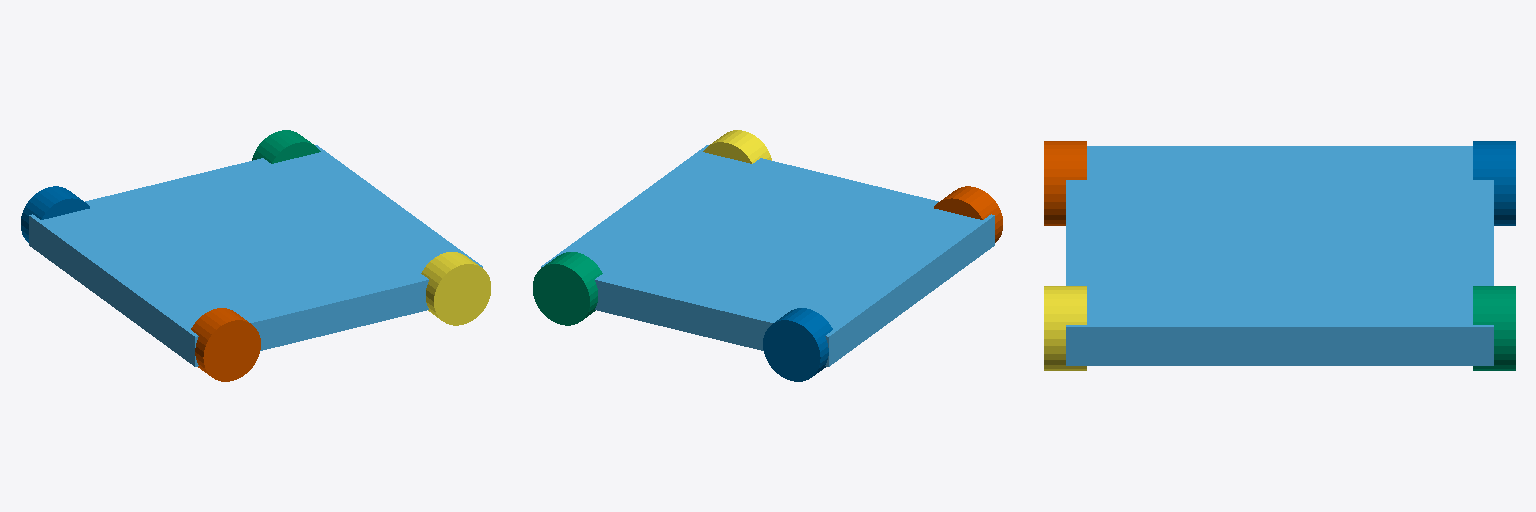
URDF robot description (basic_robot):
<?xml version="1.0" ?>
<!-- =================================================================================== -->
<!-- |    This document was autogenerated by xacro from myrobot.xacro                  | -->
<!-- |    EDITING THIS FILE BY HAND IS NOT RECOMMENDED                                 | -->
<!-- =================================================================================== -->
<robot name="basic_robot">
  <param command="xacro '[local-path]/nasa_ws/src/new_robot_urdf/urdf/myrobot.urdf.xacro'" name="robot_description"/>
  <!--colors-->
  <material name="blue">
    <color rgba=" 0 0 0.8 1"/>
  </material>
  <!--All Xacro Macros-->
  <!-- Dummy link to get rid of  base_link has an inertia specified in the URDF error -->
  <link name="dummy"/>
  <!-- Dummy joint to get rid of  base_link has an inertia specified in the URDF error -->
  <joint name="dummy_joint" type="fixed">
    <parent link="dummy"/>
    <child link="base_link"/>
  </joint>
  <link name="base_link">
    <visual>
      <origin xyz="0 0 0.1"/>
      <geometry>
        <box size="1.0 1.0 0.1"/>
      </geometry>
    </visual>
    <collision>
      <origin xyz="0 0 0.1"/>
      <geometry>
        <box size="1.0 1.0 0.1"/>
      </geometry>
    </collision>
    <inertial>
      <mass value="10"/>
      <inertia ixx="1.0" ixy="0.0" ixz="0.0" iyy="1.0" iyz="0.0" izz="1.0"/>
    </inertial>
  </link>
  <link name="right_0_wheel">
    <visual>
      <origin rpy="1.5707963267948966 0 0" xyz="0 0 0"/>
      <geometry>
        <cylinder length="0.1" radius="0.1"/>
      </geometry>
      <material name="black"/>
    </visual>
    <collision>
      <origin rpy="1.5707963267948966 0 0" xyz="0 0 0"/>
      <geometry>
        <cylinder length="0.1" radius="0.1"/>
      </geometry>
    </collision>
    <inertial>
      <mass value="1"/>
      <inertia ixx="1.0" ixy="0.0" ixz="0.0" iyy="1.0" iyz="0.0" izz="1.0"/>
    </inertial>
  </link>
  <!-- create xacro macro fo wheel joint -->
  <joint name="right_0_wheel_joint" type="continuous">
    <axis rpy="0 0 0" xyz="0 1 0"/>
    <parent link="base_link"/>
    <child link="right_0_wheel"/>
    <origin rpy="0 0 0" xyz="0.4 0.5 0.1"/>
  </joint>
  <link name="left_1_wheel">
    <visual>
      <origin rpy="1.5707963267948966 0 0" xyz="0 0 0"/>
      <geometry>
        <cylinder length="0.1" radius="0.1"/>
      </geometry>
      <material name="black"/>
    </visual>
    <collision>
      <origin rpy="1.5707963267948966 0 0" xyz="0 0 0"/>
      <geometry>
        <cylinder length="0.1" radius="0.1"/>
      </geometry>
    </collision>
    <inertial>
      <mass value="1"/>
      <inertia ixx="1.0" ixy="0.0" ixz="0.0" iyy="1.0" iyz="0.0" izz="1.0"/>
    </inertial>
  </link>
  <!-- create xacro macro fo wheel joint -->
  <joint name="left_1_wheel_joint" type="continuous">
    <axis rpy="0 0 0" xyz="0 1 0"/>
    <parent link="base_link"/>
    <child link="left_1_wheel"/>
    <origin rpy="0 0 0" xyz="0.4 -0.5 0.1"/>
  </joint>
  <link name="right_2_wheel">
    <visual>
      <origin rpy="1.5707963267948966 0 0" xyz="0 0 0"/>
      <geometry>
        <cylinder length="0.1" radius="0.1"/>
      </geometry>
      <material name="black"/>
    </visual>
    <collision>
      <origin rpy="1.5707963267948966 0 0" xyz="0 0 0"/>
      <geometry>
        <cylinder length="0.1" radius="0.1"/>
      </geometry>
    </collision>
    <inertial>
      <mass value="1"/>
      <inertia ixx="1.0" ixy="0.0" ixz="0.0" iyy="1.0" iyz="0.0" izz="1.0"/>
    </inertial>
  </link>
  <!-- create xacro macro fo wheel joint -->
  <joint name="right_2_wheel_joint" type="continuous">
    <axis rpy="0 0 0" xyz="0 1 0"/>
    <parent link="base_link"/>
    <child link="right_2_wheel"/>
    <origin rpy="0 0 0" xyz="-0.4 0.5 0.1"/>
  </joint>
  <link name="left_3_wheel">
    <visual>
      <origin rpy="1.5707963267948966 0 0" xyz="0 0 0"/>
      <geometry>
        <cylinder length="0.1" radius="0.1"/>
      </geometry>
      <material name="black"/>
    </visual>
    <collision>
      <origin rpy="1.5707963267948966 0 0" xyz="0 0 0"/>
      <geometry>
        <cylinder length="0.1" radius="0.1"/>
      </geometry>
    </collision>
    <inertial>
      <mass value="1"/>
      <inertia ixx="1.0" ixy="0.0" ixz="0.0" iyy="1.0" iyz="0.0" izz="1.0"/>
    </inertial>
  </link>
  <!-- create xacro macro fo wheel joint -->
  <joint name="left_3_wheel_joint" type="continuous">
    <axis rpy="0 0 0" xyz="0 1 0"/>
    <parent link="base_link"/>
    <child link="left_3_wheel"/>
    <origin rpy="0 0 0" xyz="-0.4 -0.5 0.1"/>
  </joint>
  <!-- Gazebo plugin for ROS Control -->
  <gazebo>
    <plugin filename="libgazebo_ros_control.so" name="gazebo_ros_control">
      <robotNamespace>/</robotNamespace>
    </plugin>
  </gazebo>
</robot>

--- What the picture shows (computed from the rendered views, not written in the file) ---
3 views of the same robot in one strip: view 1: azimuth 30°, elevation 25°; view 2: azimuth 150°, elevation 25°; view 3: azimuth 270°, elevation 25° (orthographic).
Model basic_robot with 6 links and 5 joints (4 continuous, 1 fixed), rooted at dummy, posed every joint at zero.
Visible links, largest first — view 1: base_link, left_3_wheel, left_1_wheel, right_2_wheel, right_0_wheel; view 2: base_link, right_2_wheel, right_0_wheel, left_3_wheel, left_1_wheel; view 3: base_link, right_0_wheel, left_1_wheel, right_2_wheel, left_3_wheel.
Boxes of the visible links, bbox=[...] form: base_link: bbox=[29, 145, 482, 366]; left_3_wheel: bbox=[191, 308, 260, 381]; left_1_wheel: bbox=[421, 252, 490, 325]; right_2_wheel: bbox=[21, 186, 89, 242]; right_0_wheel: bbox=[252, 130, 320, 163]; base_link: bbox=[541, 145, 994, 366]; right_2_wheel: bbox=[763, 308, 832, 381]; right_0_wheel: bbox=[533, 252, 602, 325]; left_3_wheel: bbox=[934, 186, 1002, 242]; left_1_wheel: bbox=[703, 130, 771, 163]; base_link: bbox=[1066, 146, 1493, 365]; right_0_wheel: bbox=[1473, 286, 1515, 370]; left_1_wheel: bbox=[1044, 286, 1086, 370]; right_2_wheel: bbox=[1473, 141, 1515, 225]; left_3_wheel: bbox=[1044, 141, 1086, 225].
Size in the robot's own frame: 1 by 1.1 by 0.2 metres.
Geometry: primitives only (box / cylinder / sphere), no mesh files.